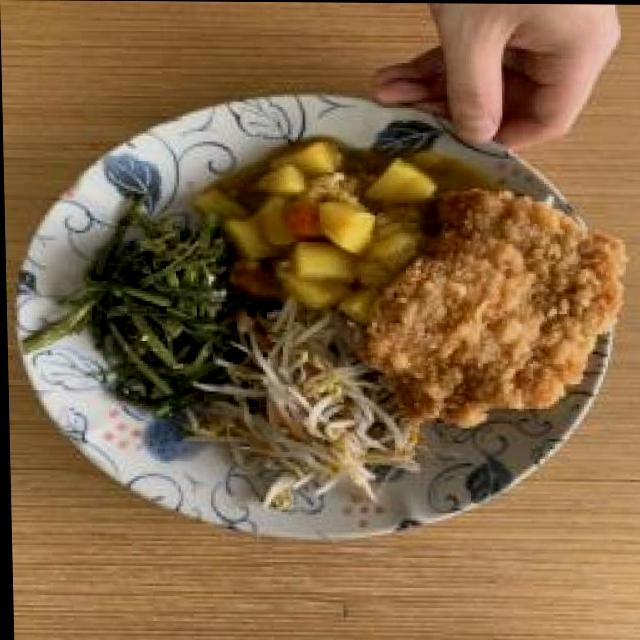curry: (223, 156, 415, 287)
fried_chicken: (399, 227, 610, 402)
mung_bean_sprouts: (238, 309, 386, 480)
water_spinach: (81, 235, 232, 379)
